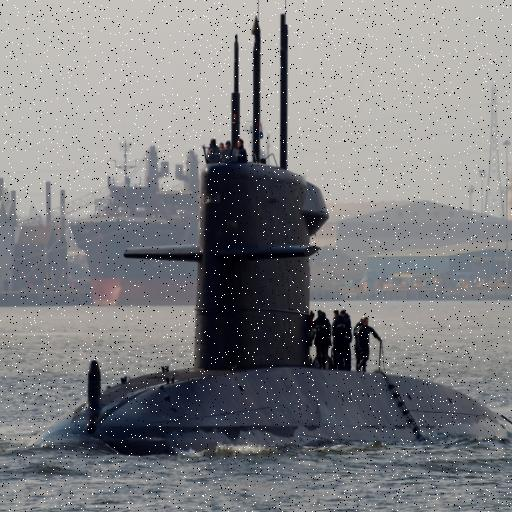submarine: (22, 160, 512, 453)
